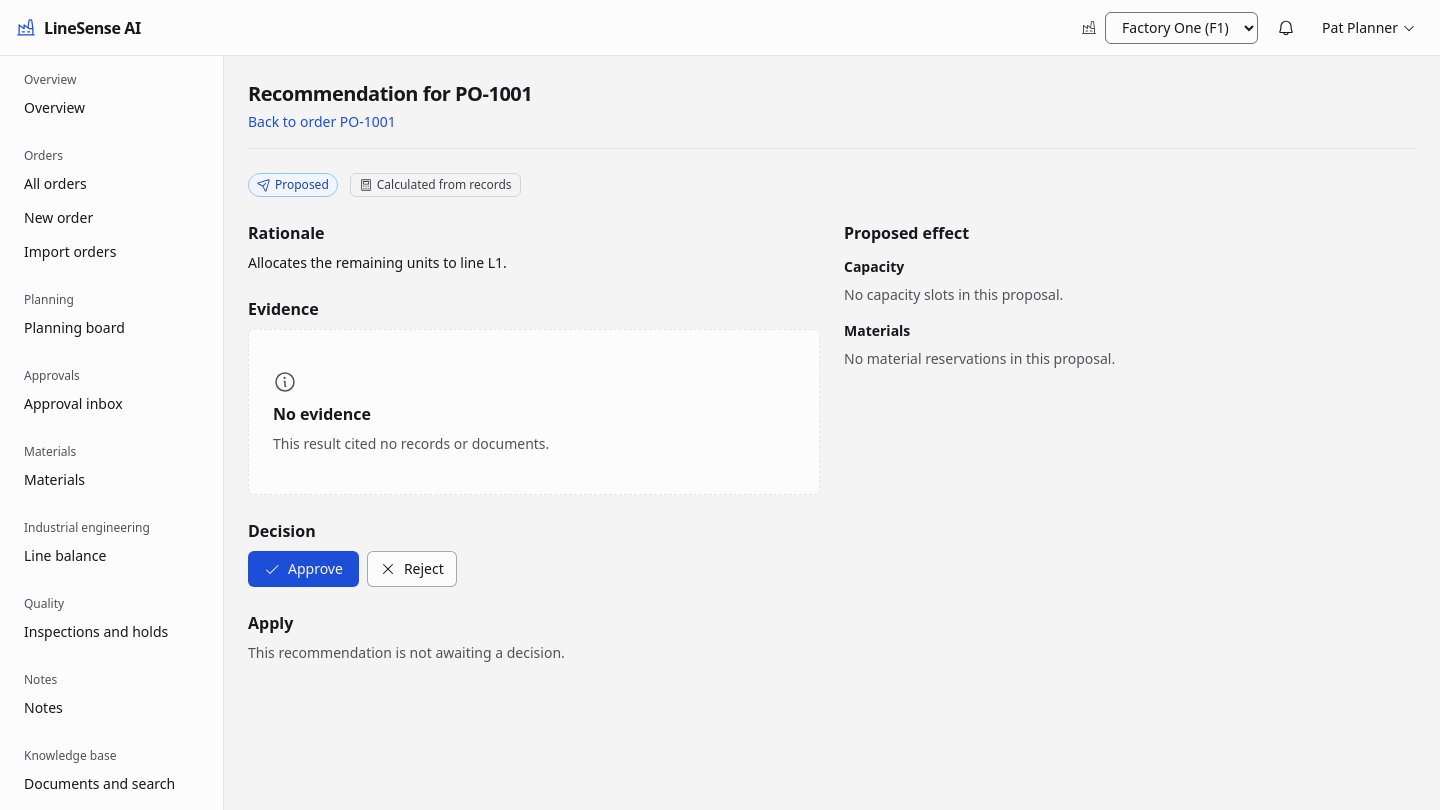
Test: RecommendationPage › requires a reason to reject
The image size is (1440, 810).
Click the button "Reject". click: click(412, 569)
box: 367,551 -> 457,587
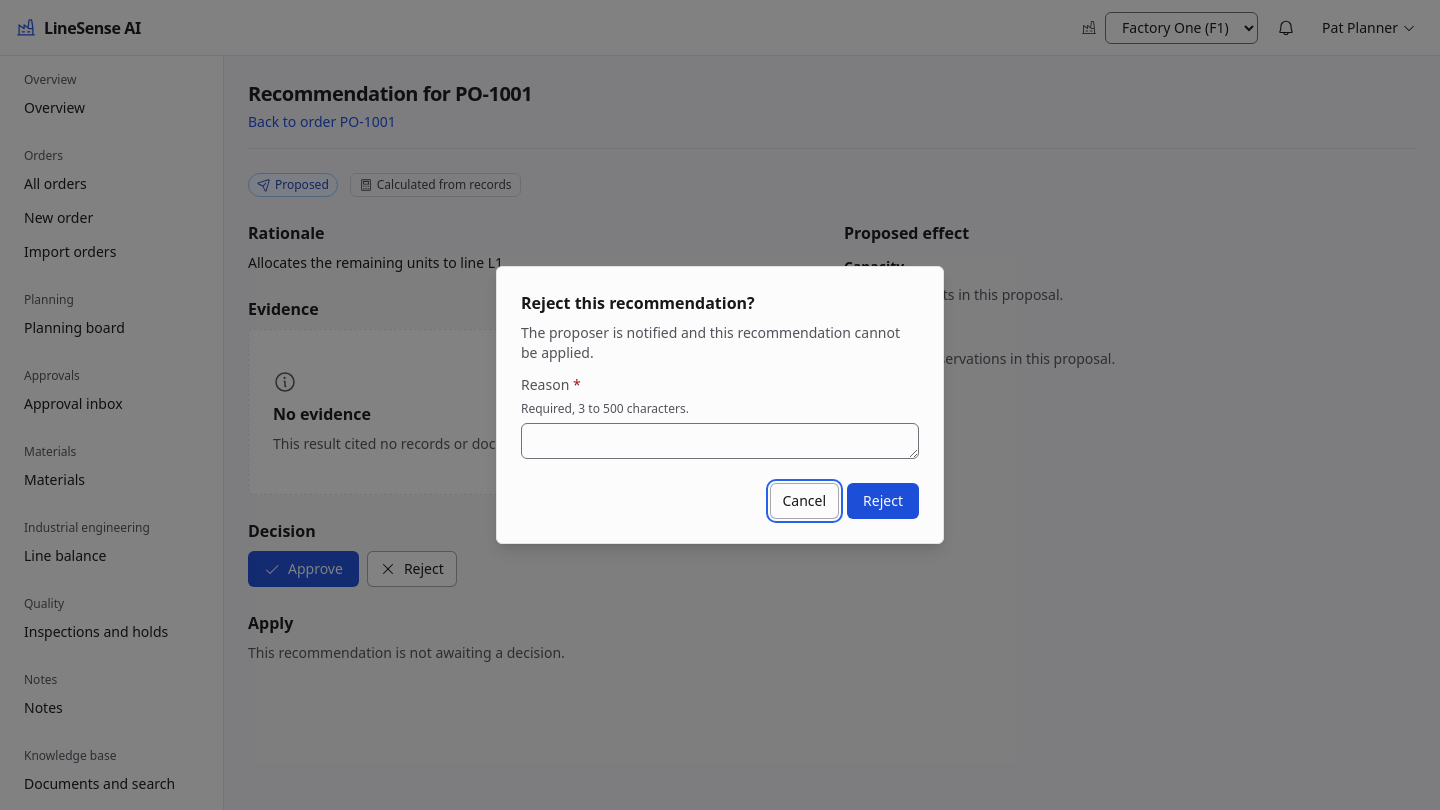
Click the button "Reject". click: click(883, 501)
box: 847,483 -> 919,519
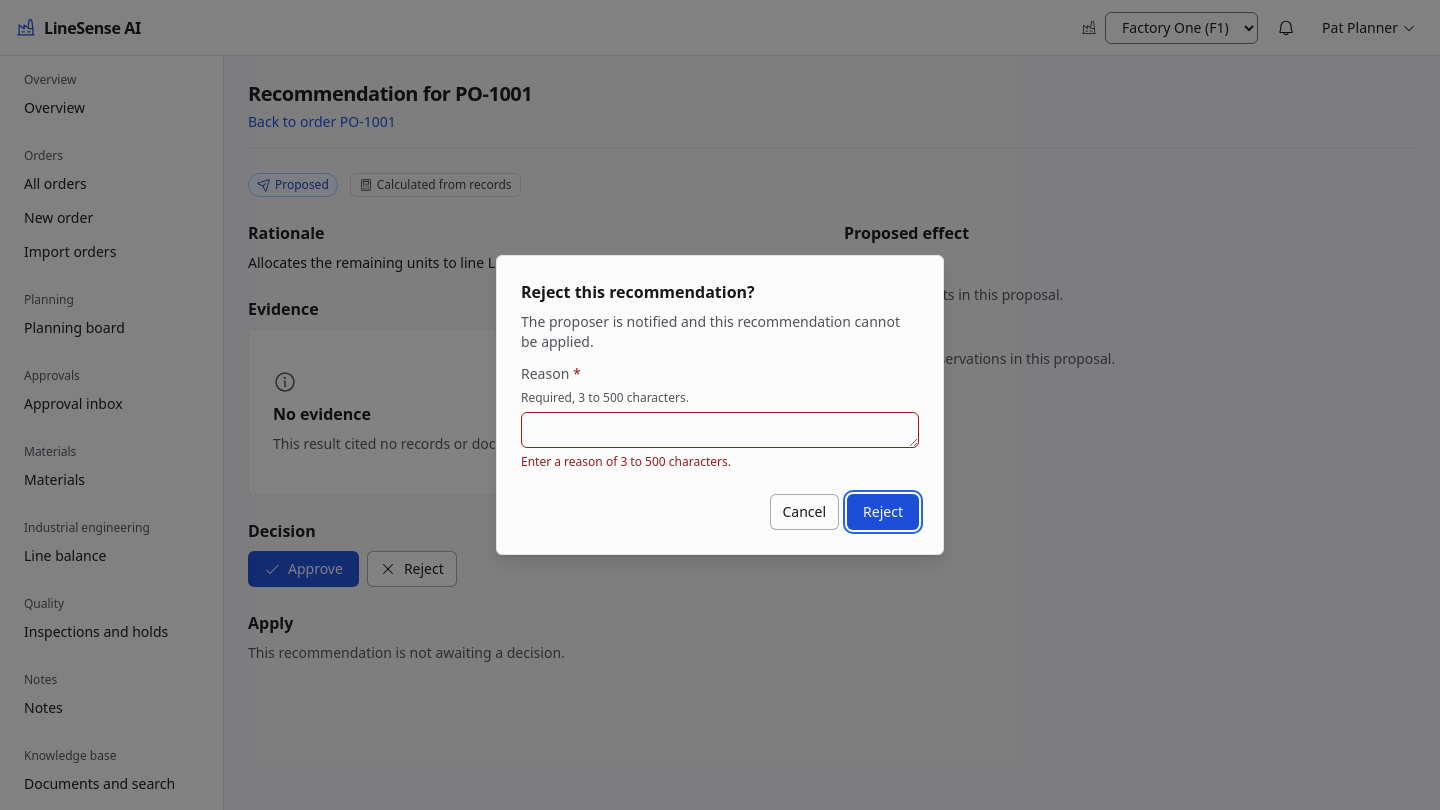
Check: the text "Enter a reason of 3 to 500 characters." is shown, box 521,453 -> 731,470
